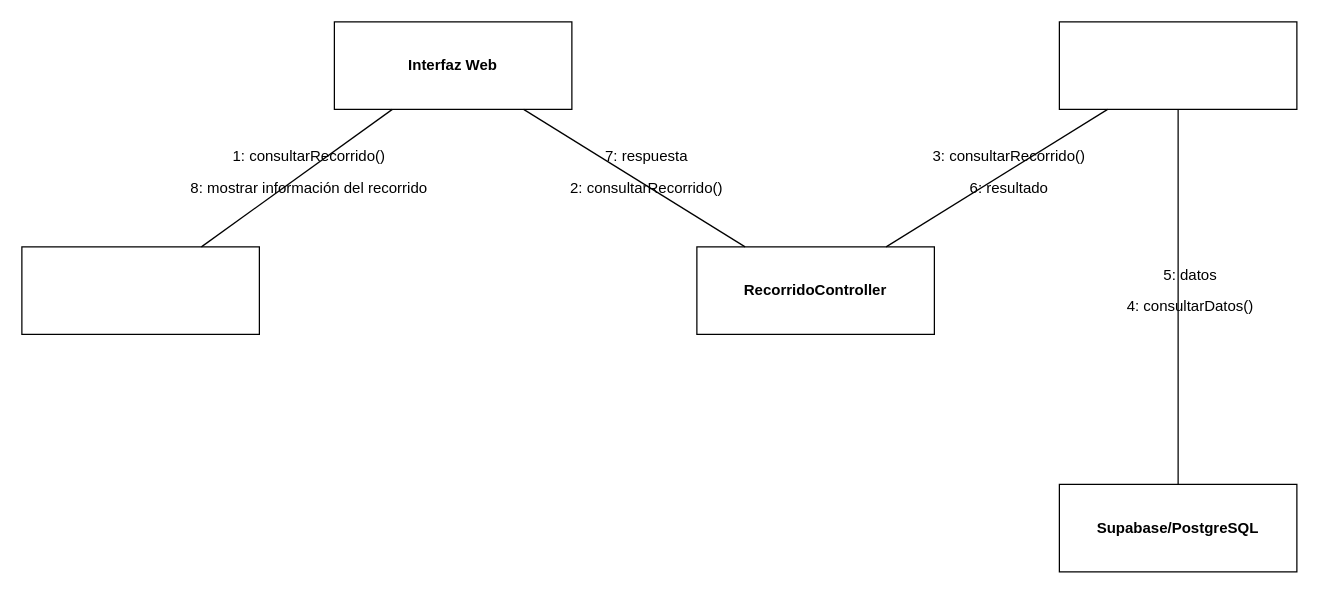
Image size: 1344x594. Some labels were removed from this diagram. Here are the shapes that lost their labels. From the top down, the centre of each, then its label:
point 1177,65: Recorrido
point 140,290: Usuario Final
